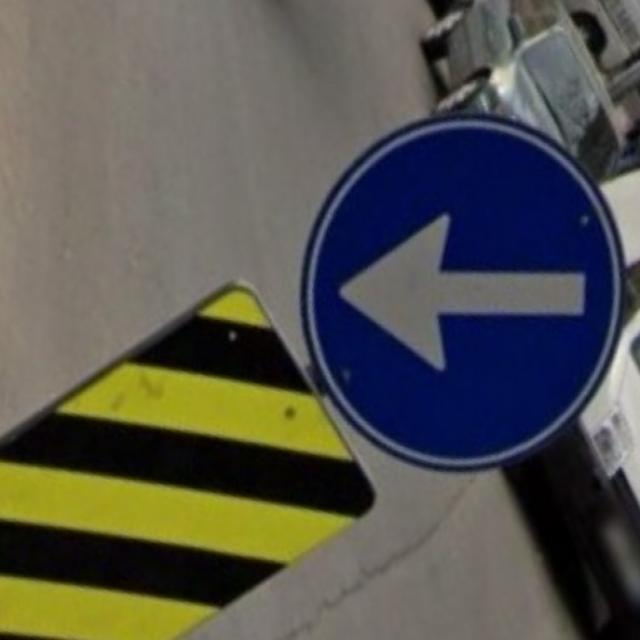Turn Left: (323, 126, 611, 448)
